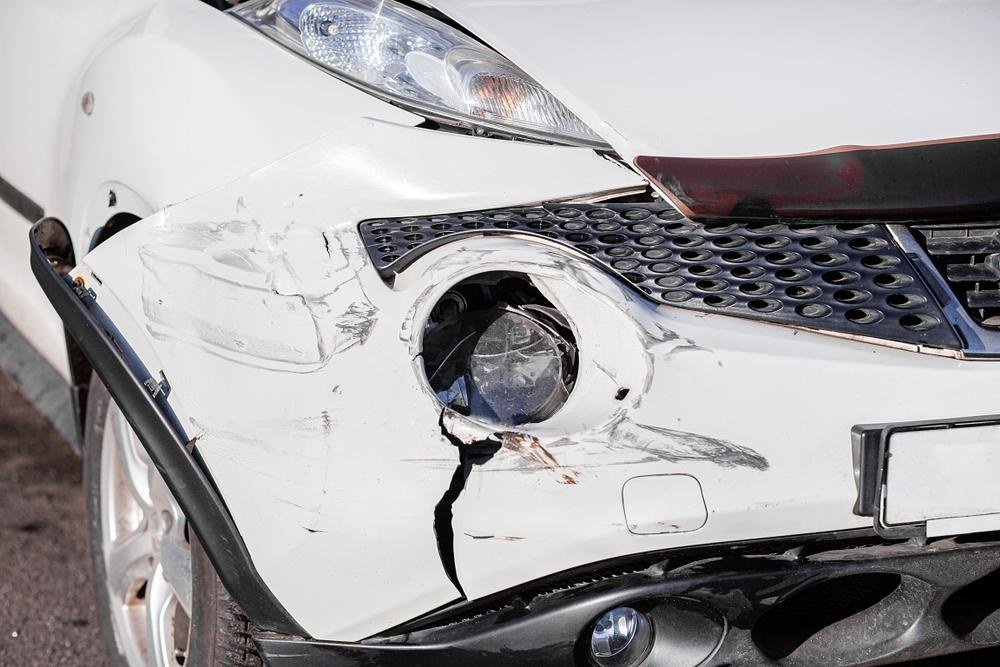crack: (433, 406, 503, 603)
lamp broken: (434, 278, 578, 423)
scratch: (400, 244, 777, 488), (137, 200, 391, 533)
